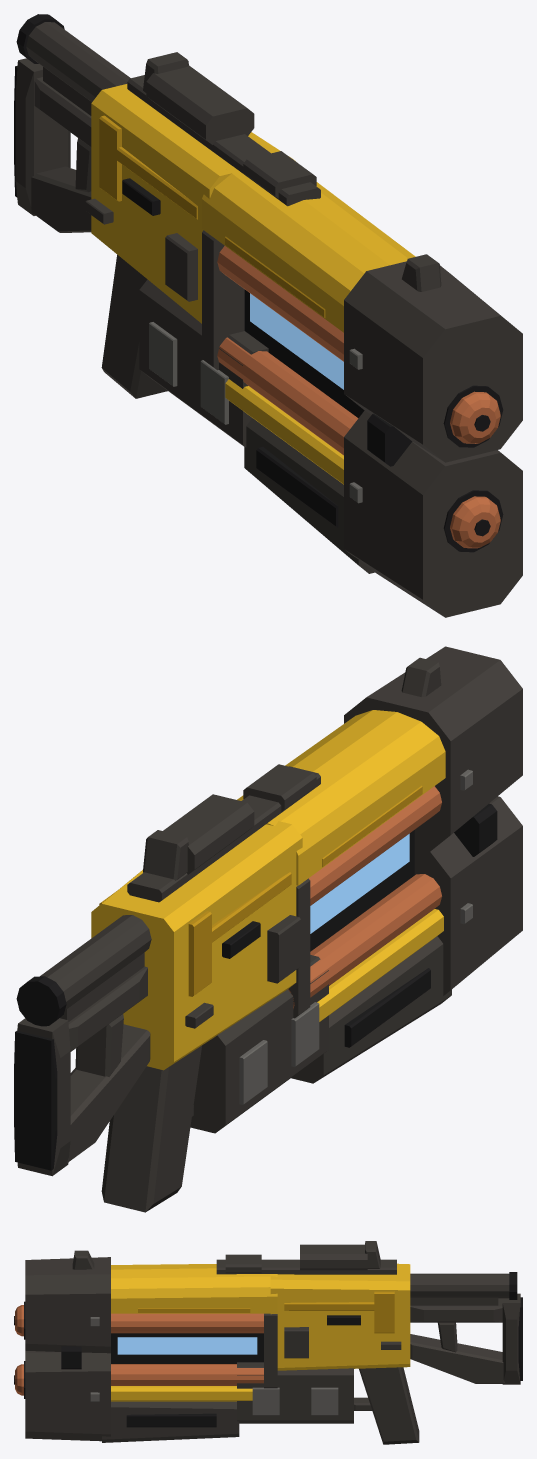
The model's file is LightningCarbineClean.glb.
3 renders of one model, top to bottom at view 1: azimuth 30°, elevation 25°; view 2: azimuth 150°, elevation 25°; view 3: azimuth 270°, elevation 25°, orthographic. The views are drawn at different scales.
Parts seen in each view (by area): view 1: Body, Glow; view 2: Body, Glow; view 3: Body, Glow.
Part boxes in pixels (x1=…): Body: x1=14, y1=14, x2=522, y2=617; Glow: x1=250, y1=293, x2=343, y2=389; Body: x1=14, y1=646, x2=522, y2=1212; Glow: x1=310, y1=833, x2=409, y2=933; Body: x1=14, y1=1241, x2=522, y2=1444; Glow: x1=117, y1=1337, x2=257, y2=1354.
Size of the model in its own units: 0.67 by 1.9 by 4.52.
Materials: 2 (2 with a texture image).
